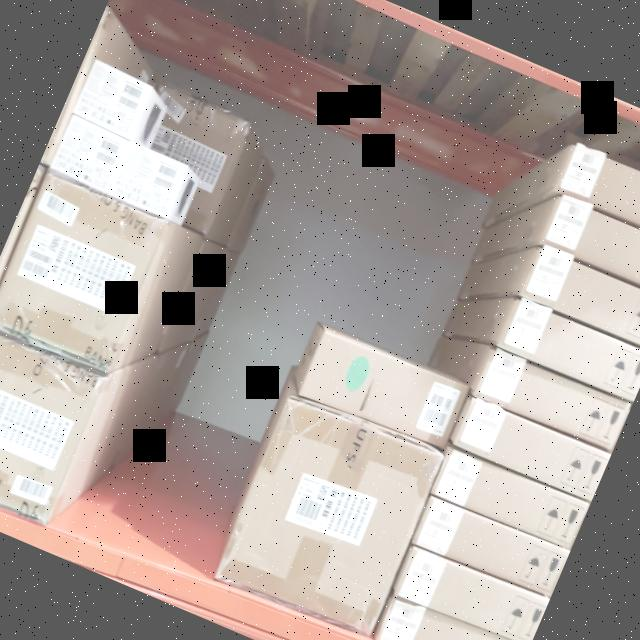box: (213, 401, 440, 639), (0, 174, 167, 373), (296, 330, 464, 450), (0, 333, 103, 526), (504, 305, 640, 404), (524, 252, 640, 351), (547, 201, 640, 299), (560, 137, 640, 244), (73, 62, 153, 134), (110, 146, 184, 217), (52, 118, 125, 186)
